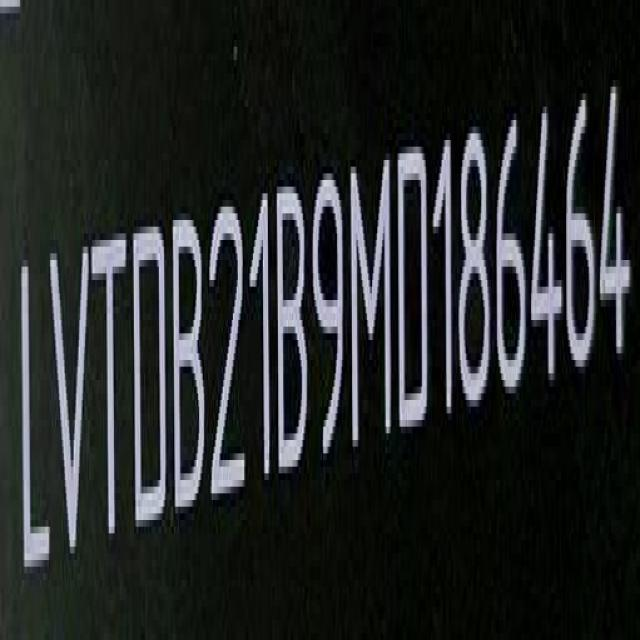1: (430, 114, 456, 427), (248, 183, 274, 486)
2: (207, 192, 250, 514)
4: (530, 104, 564, 392), (596, 79, 631, 356)
6: (491, 114, 530, 395), (562, 84, 596, 385)
8: (456, 118, 491, 415)
9: (312, 168, 348, 479)
B: (273, 155, 312, 484), (169, 202, 207, 526)
D: (130, 222, 168, 536), (394, 141, 429, 439)
L: (18, 244, 51, 568)
M: (349, 146, 396, 452)
T: (90, 220, 128, 541)
V: (47, 232, 91, 568)
